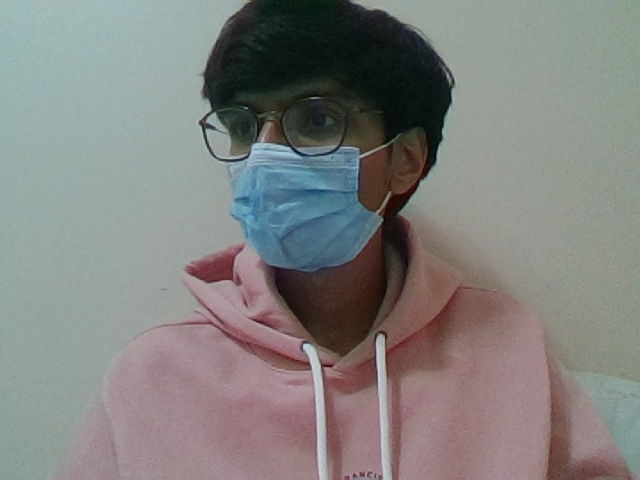Face_mask_found: (205, 126, 431, 278)
